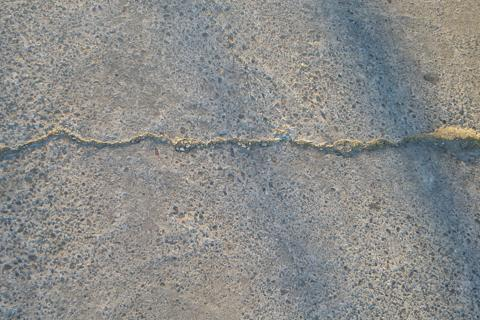crack: (0, 122, 478, 169)
